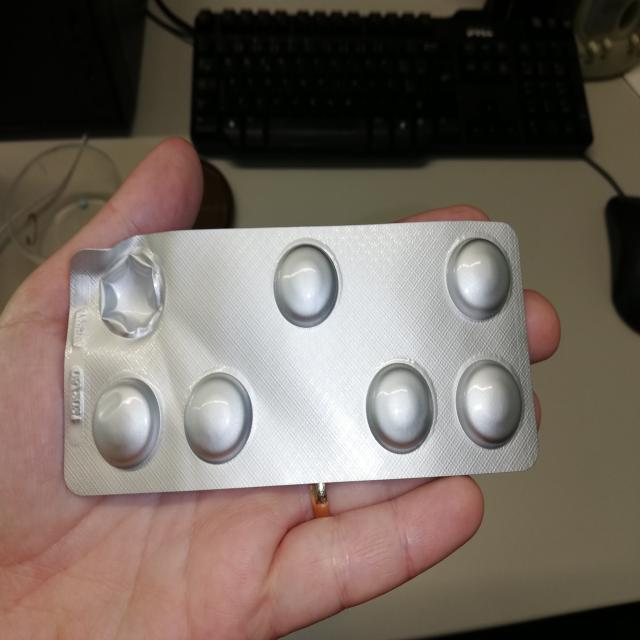Empty: (94, 248, 171, 341)
Pill: (364, 358, 438, 456), (453, 356, 525, 452), (88, 377, 160, 471), (271, 237, 342, 329), (444, 234, 516, 324), (182, 372, 253, 463)
